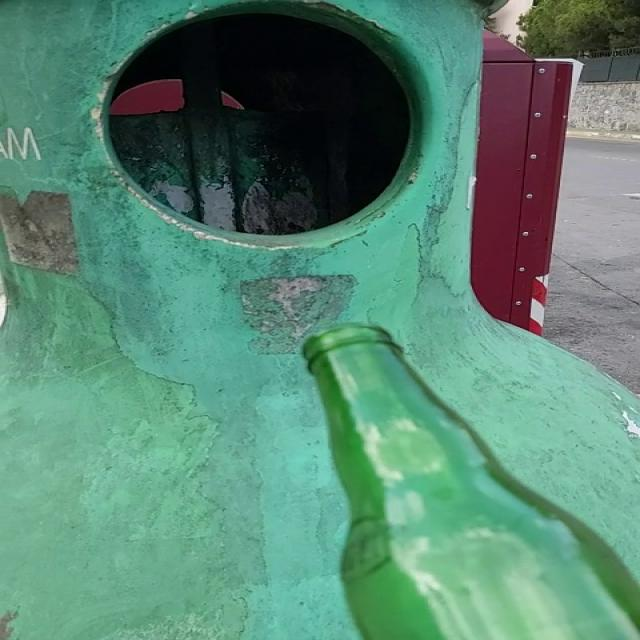glass: (304, 325, 640, 640)
